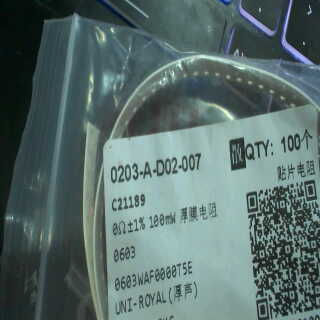0R: (108, 211, 179, 263)
